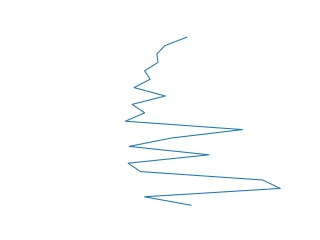crevasseRiverBedLagDeposit: (120, 35, 285, 210)
